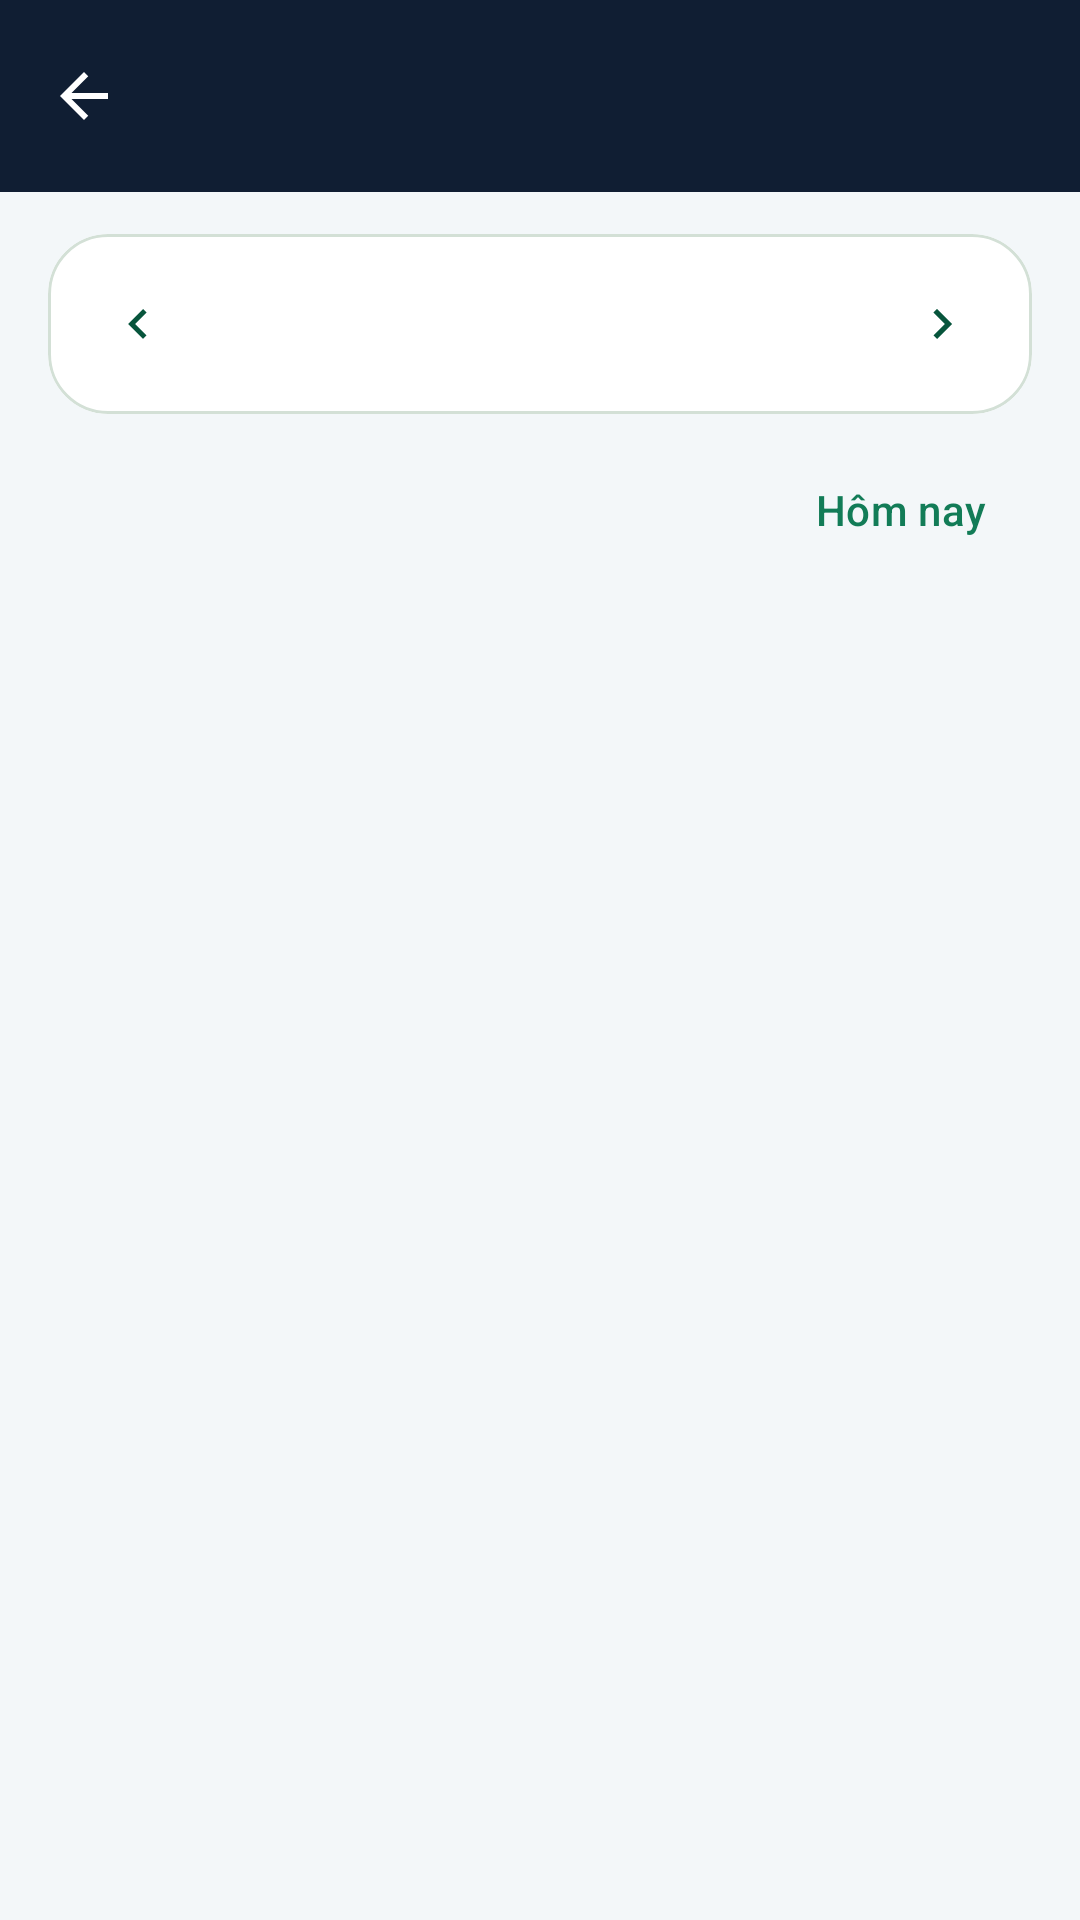

Point at icon controls on the screen. Image size 1080w x 1920h, points as (x,y).
Ngày sau: (942,324)
Ngày trước: (137,324)
